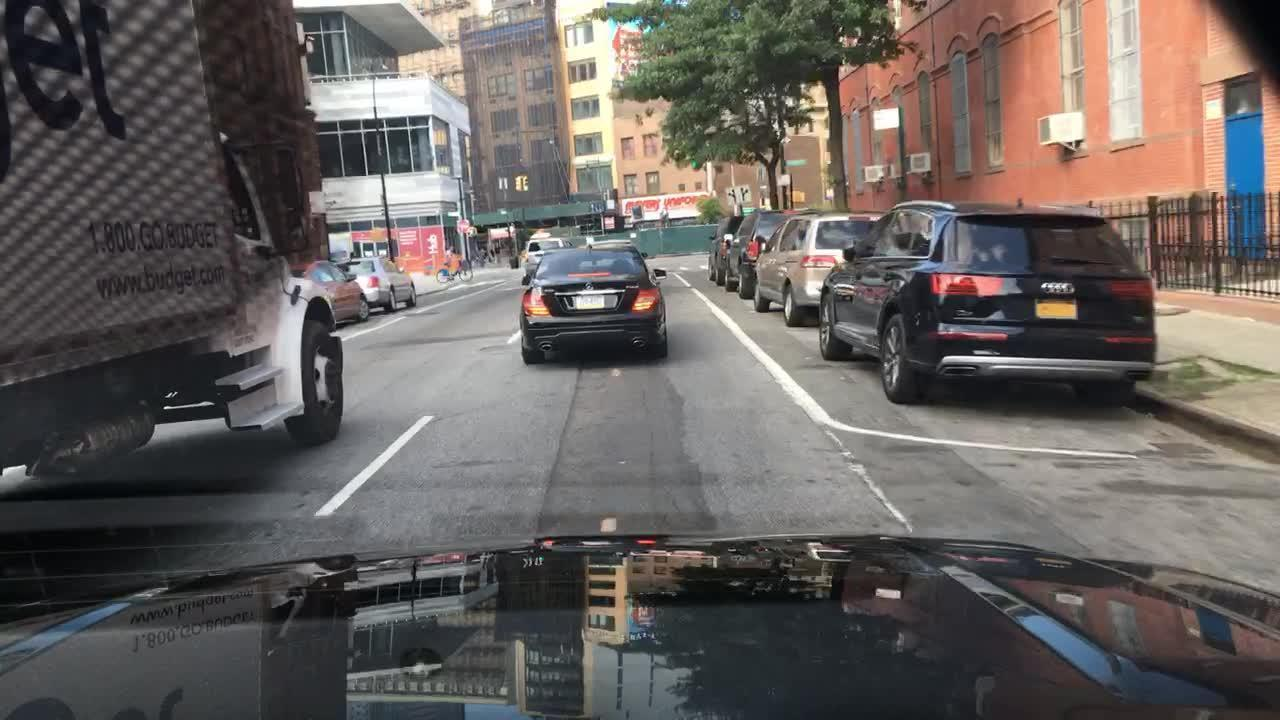Audi: (1035, 276, 1079, 302)
